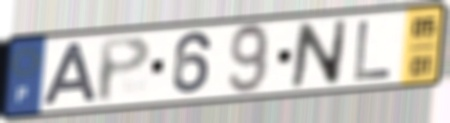6: (171, 29, 213, 99)
9: (225, 21, 272, 98)
A: (39, 40, 99, 109)
L: (351, 19, 395, 84)
N: (287, 17, 350, 90)
P: (96, 34, 155, 106)
